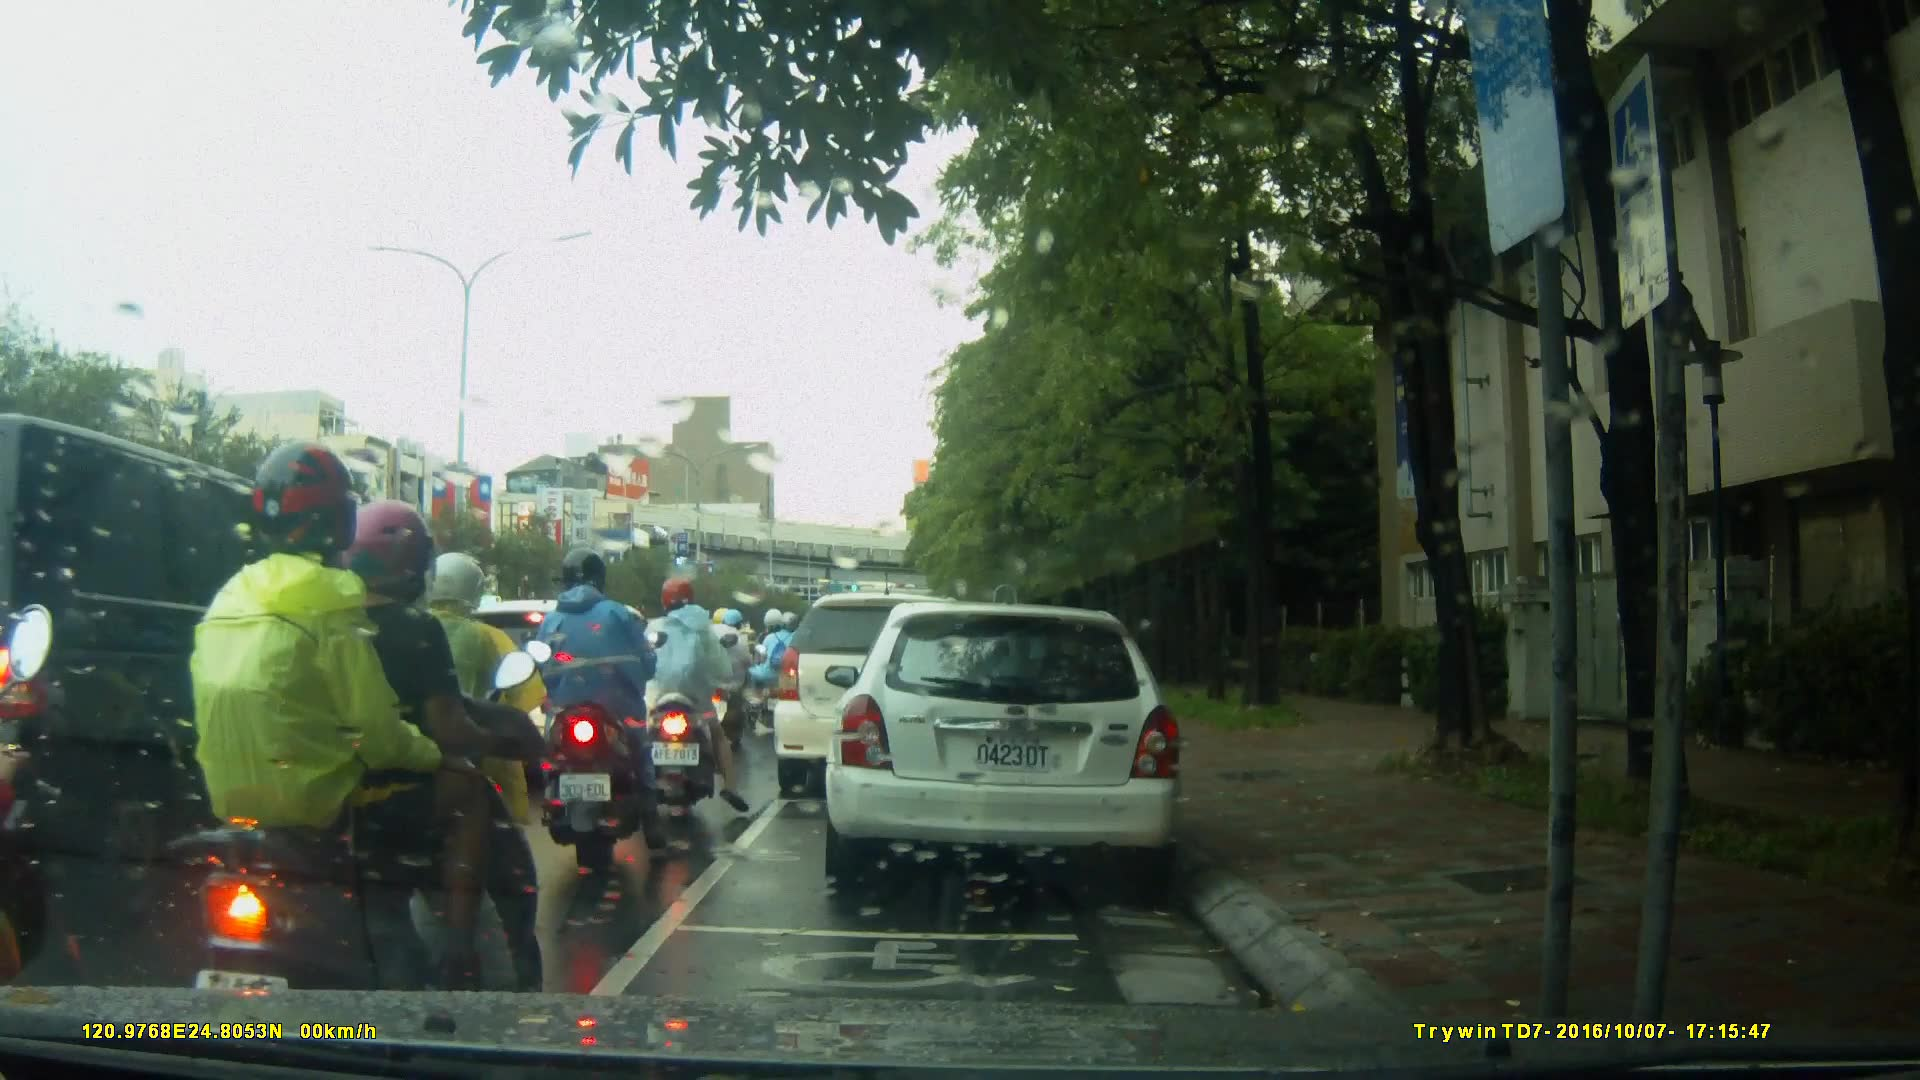rider: (188, 446, 559, 1063), (358, 551, 556, 947), (532, 555, 664, 866), (632, 578, 747, 812), (705, 605, 758, 733)
vehicle: (2, 409, 412, 962), (822, 604, 1188, 883), (369, 591, 659, 802), (774, 595, 995, 802)
